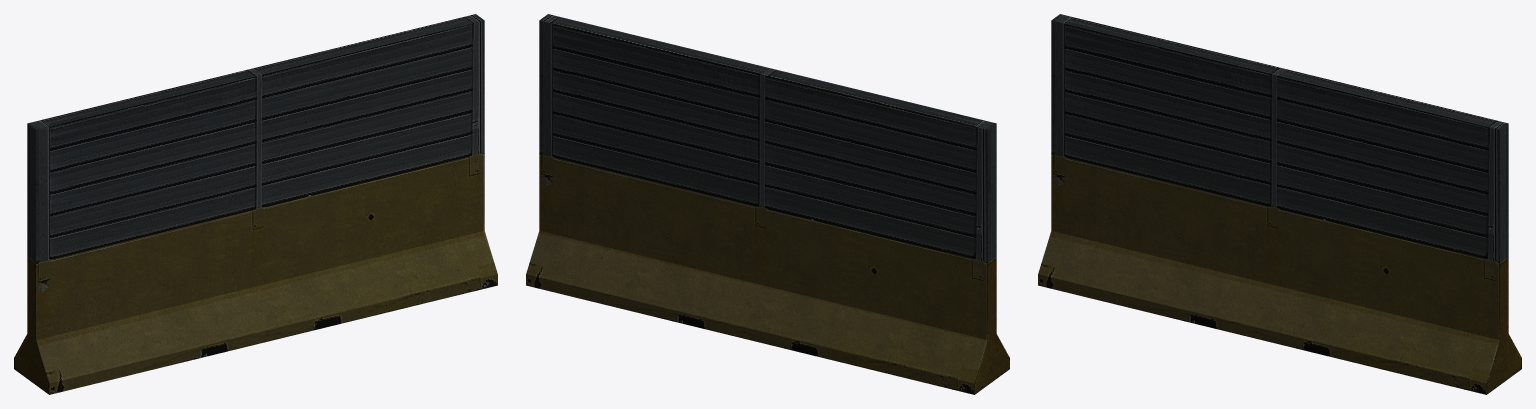
File: barricade_a_3.glb
The picture shows the model from 3 angles, left to right: view 1: azimuth 30°, elevation 25°; view 2: azimuth 150°, elevation 25°; view 3: azimuth 330°, elevation 25°; orthographic projection.
Parts seen in each view (by area): view 1: barricade_a_3; view 2: barricade_a_3; view 3: barricade_a_3.
Boxes of the visible parts, x1=… form: barricade_a_3: x1=14, y1=14, x2=497, y2=394; barricade_a_3: x1=526, y1=14, x2=1009, y2=394; barricade_a_3: x1=1038, y1=14, x2=1521, y2=394.
Size of the model in its own units: 2.94 by 1.6 by 0.4.
Materials: 1 (1 with a texture image).
